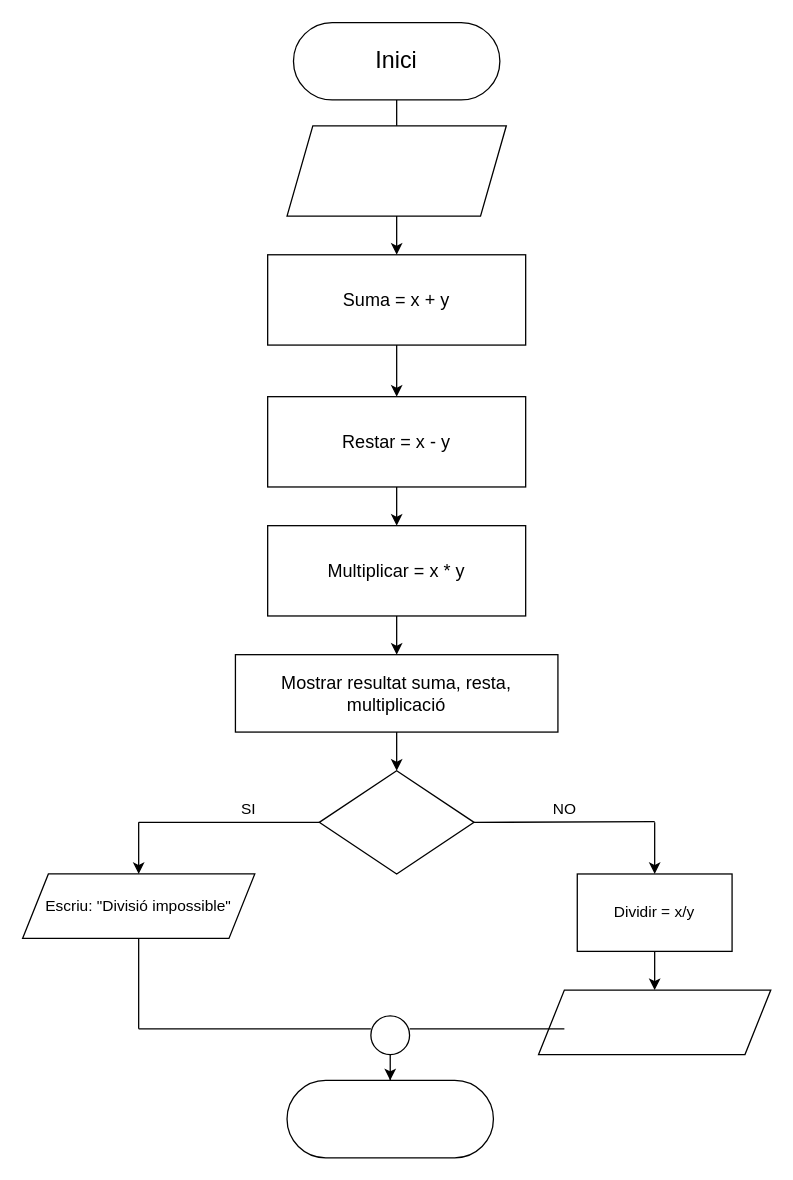
This 793x1180 diagram has some shape labels left out. Each missing label, with the box of its shape:
Escriu: Divisió: (537, 989, 771, 1055)
Fi: (286, 1079, 493, 1158)
Llig x. Llig y: (286, 124, 506, 216)
y = 0: (318, 769, 474, 874)
